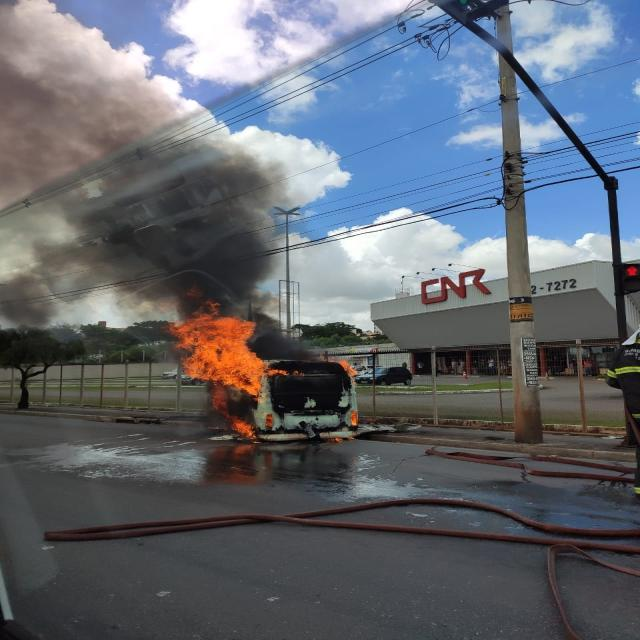fire: (173, 316, 270, 396)
